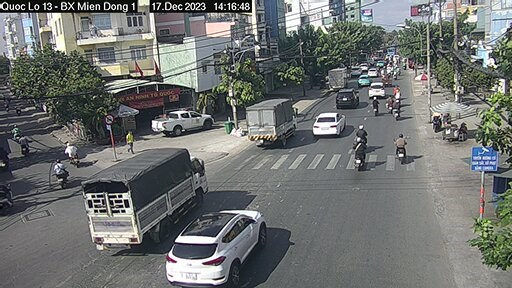car: (179, 209, 268, 284), (152, 109, 215, 138), (312, 109, 346, 137), (337, 87, 360, 112), (370, 83, 385, 98), (356, 73, 369, 85), (369, 68, 378, 81)
motorbike: (353, 140, 372, 172), (397, 136, 409, 171), (393, 100, 400, 120)
truck: (97, 146, 202, 247), (248, 92, 297, 148), (326, 67, 351, 93)
